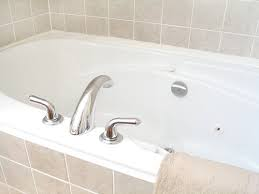bathub: (1, 28, 259, 194)
